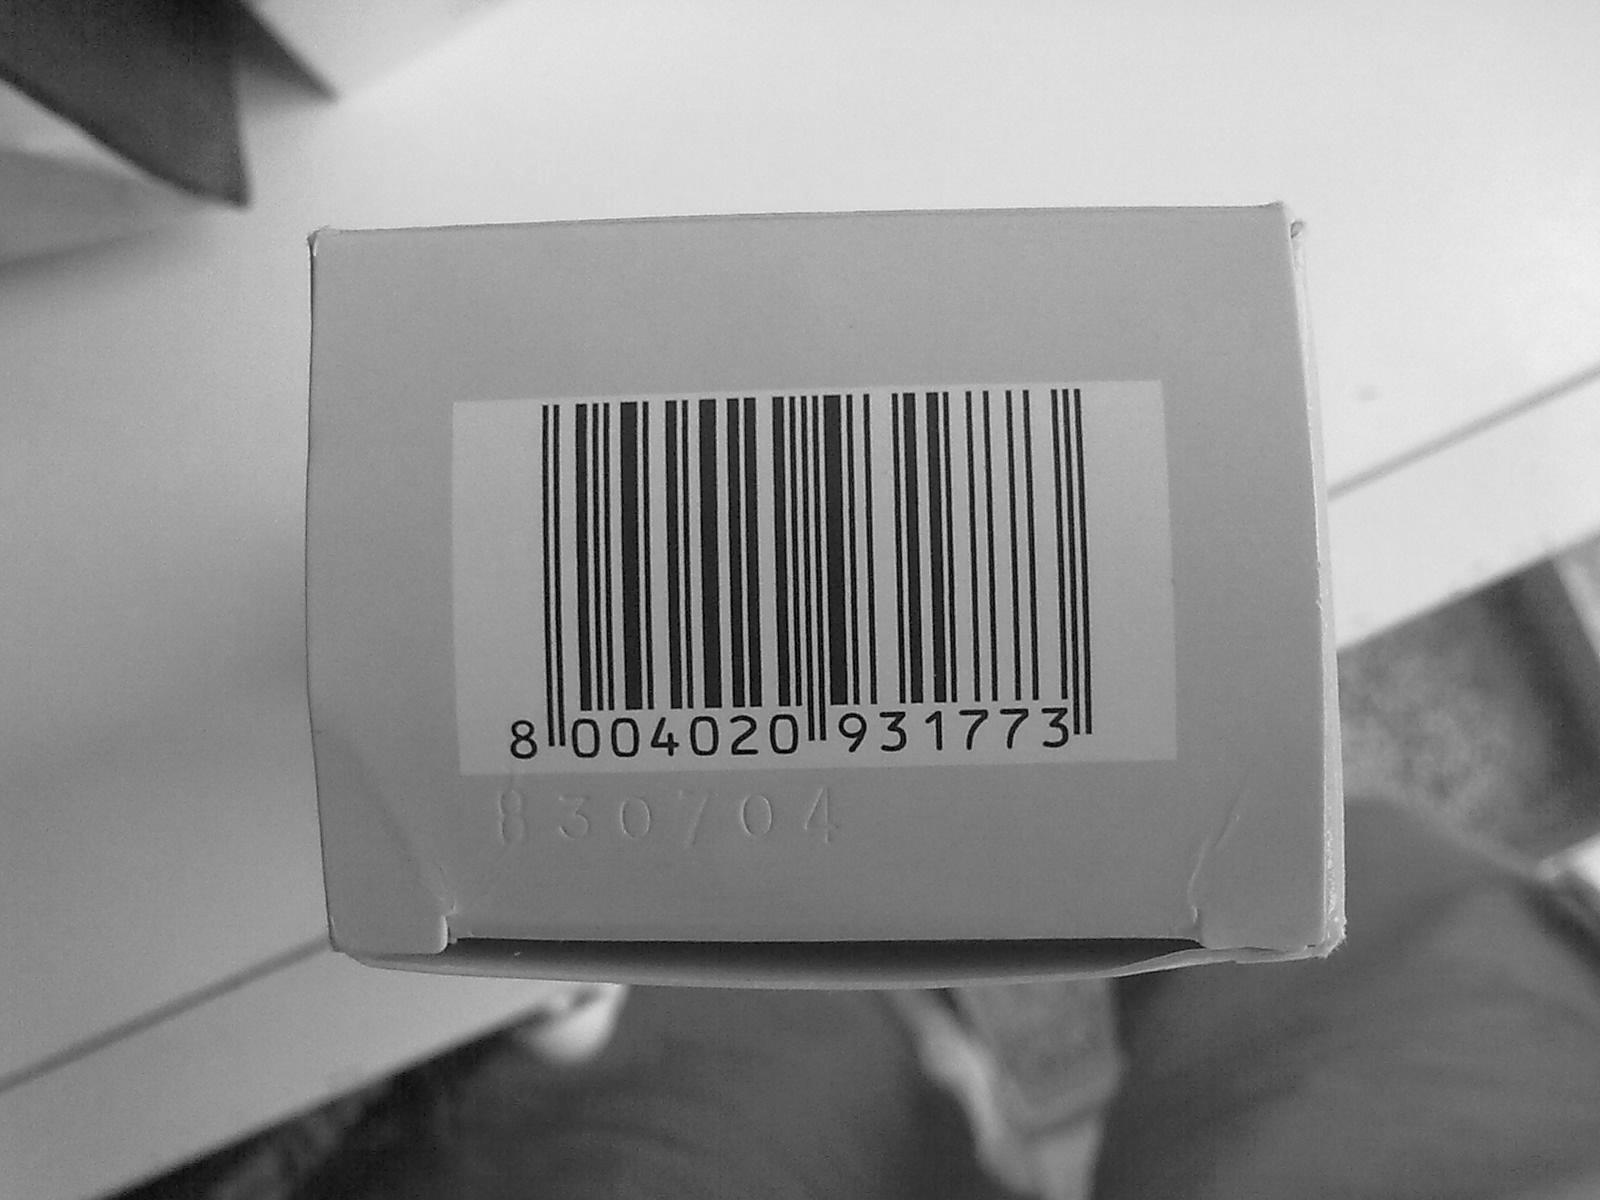Barcode: (462, 380, 1158, 766)
